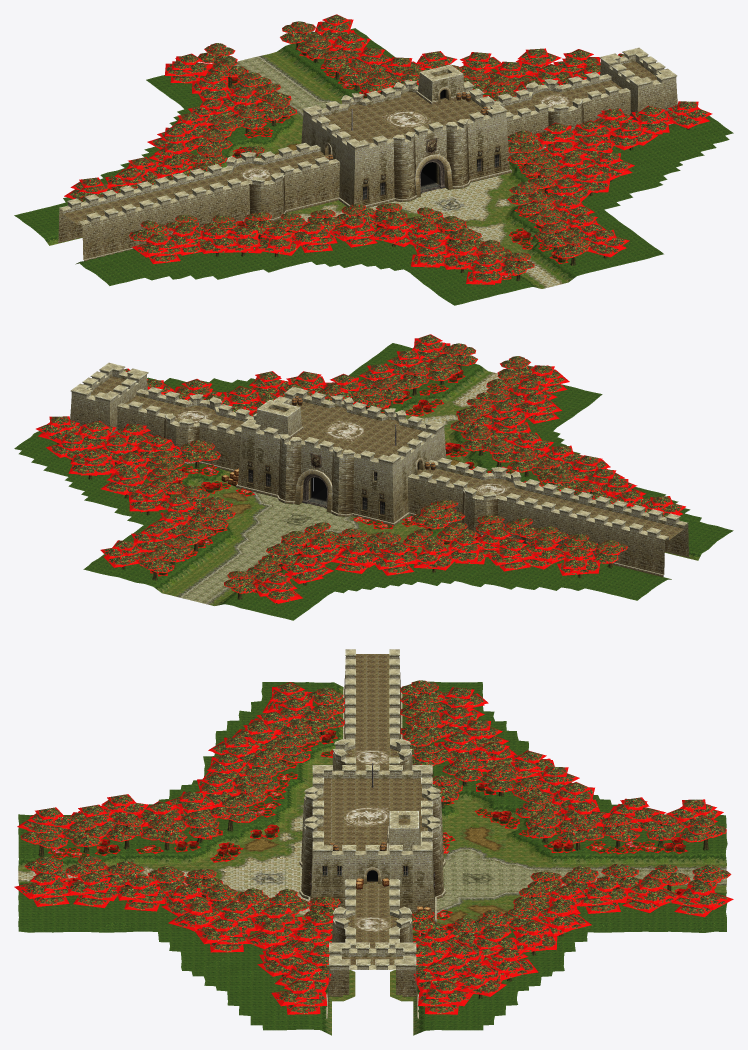
File: GuruneGate.obj
The picture shows the model from 3 angles, top to bottom: view 1: azimuth 30°, elevation 25°; view 2: azimuth 150°, elevation 25°; view 3: azimuth 270°, elevation 25°; orthographic projection. The views are drawn at different scales.
Visible parts, largest first — view 1: Object.1; view 2: Object.1; view 3: Object.1.
Boxes of the visible parts, x1=… form: Object.1: x1=14, y1=14, x2=733, y2=305; Object.1: x1=14, y1=334, x2=733, y2=620; Object.1: x1=14, y1=649, x2=733, y2=1035.
Size of the model in its own units: 142 by 16.8 by 124.
Materials: 17 (17 with a texture image).
